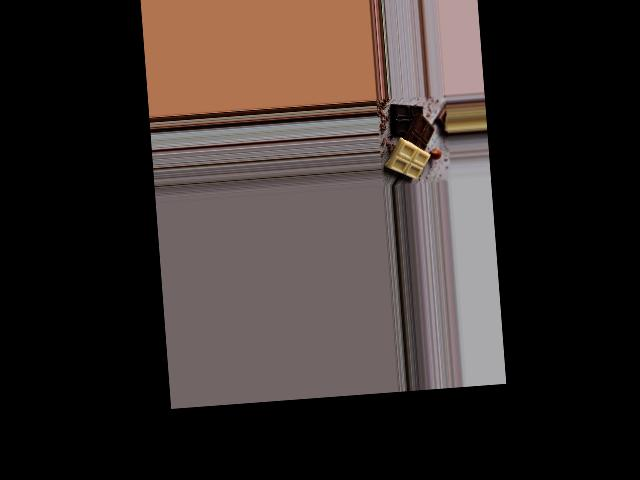chocolate: (384, 97, 438, 180)
